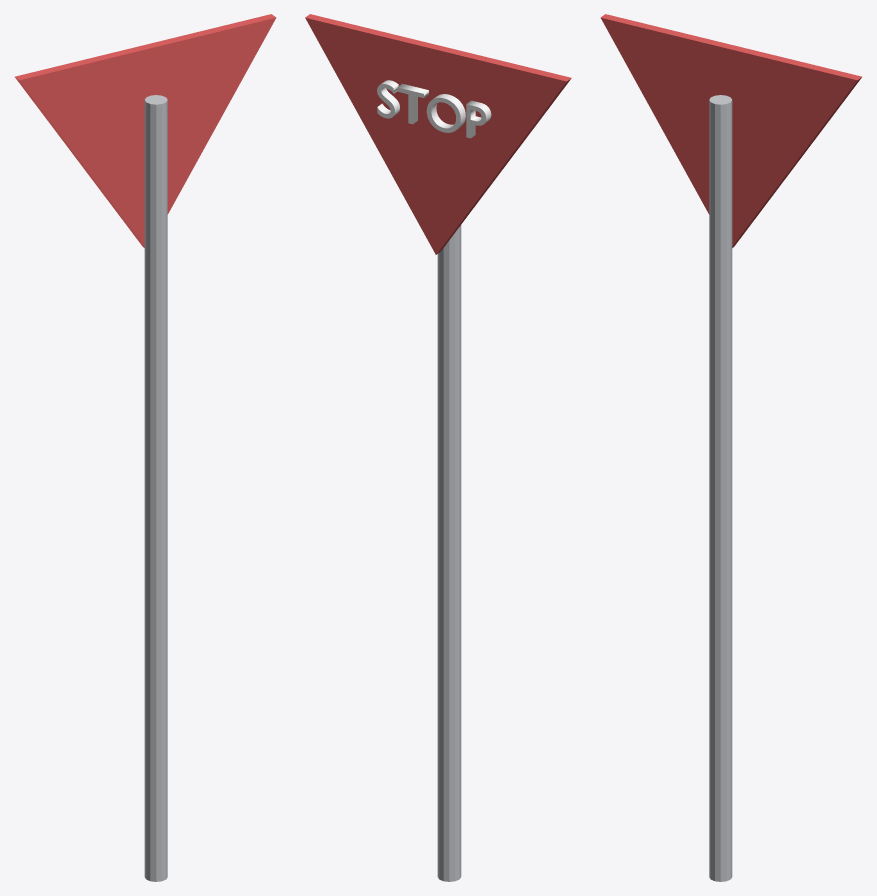
Rendered from RoadSign_Stop.fbx.
The picture shows the model from 3 angles, left to right: view 1: azimuth 30°, elevation 25°; view 2: azimuth 150°, elevation 25°; view 3: azimuth 330°, elevation 25°; orthographic projection.
Parts seen in each view (by area): view 1: RoadSign_Stop_Mesh; view 2: RoadSign_Stop_Mesh; view 3: RoadSign_Stop_Mesh.
Boxes of the visible parts, left/top/right/bottom form: RoadSign_Stop_Mesh: left=15, top=14, right=276, bottom=881; RoadSign_Stop_Mesh: left=305, top=14, right=571, bottom=881; RoadSign_Stop_Mesh: left=600, top=14, right=861, bottom=881.
Bounding box in the file's own units: 0.9 × 0.145 × 2.75.
